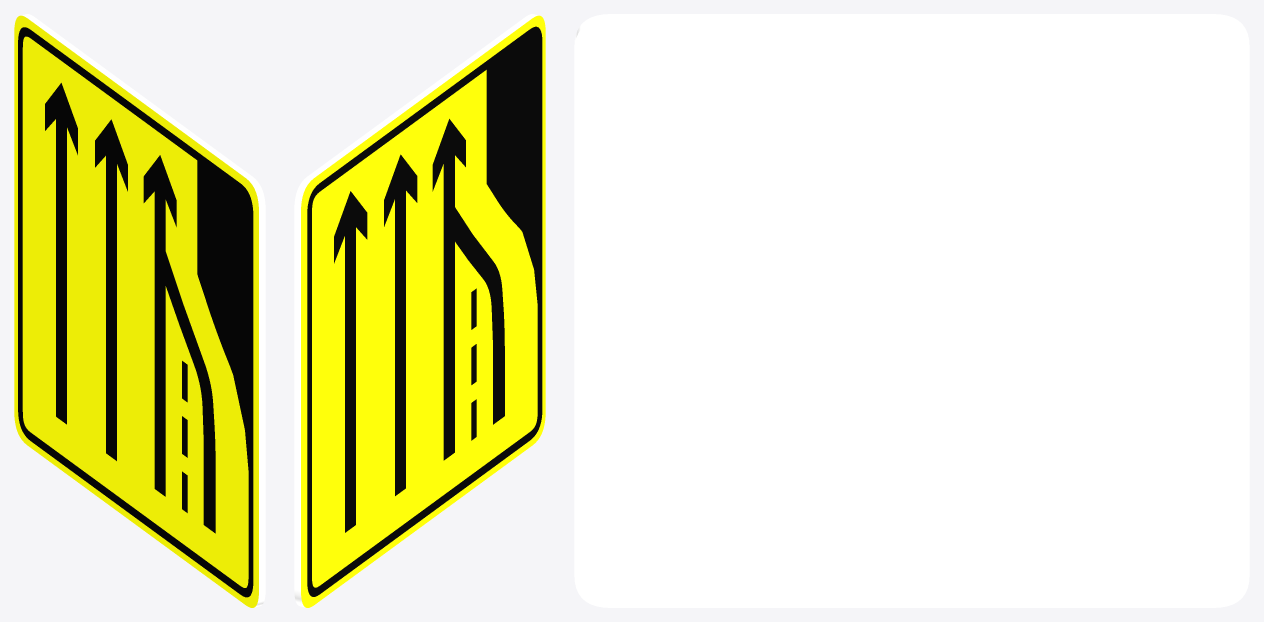
Rendered from Attention_Lane_Reduction_Ahead_2.glb.
The picture shows the model from 3 angles, left to right: view 1: azimuth 30°, elevation 25°; view 2: azimuth 150°, elevation 25°; view 3: azimuth 270°, elevation 25°; orthographic projection. The views are drawn at different scales.
Parts seen in each view (by area): view 1: Attention_Lane_Reduction_Ahead_2; view 2: Attention_Lane_Reduction_Ahead_2; view 3: Attention_Lane_Reduction_Ahead_2.
Part boxes in pixels (x1,y1,x2,y2): Attention_Lane_Reduction_Ahead_2: (14, 14, 265, 607); Attention_Lane_Reduction_Ahead_2: (294, 14, 545, 607); Attention_Lane_Reduction_Ahead_2: (574, 14, 1249, 607).
Size of the model in its own units: 0.0355 by 1.83 by 1.9.
